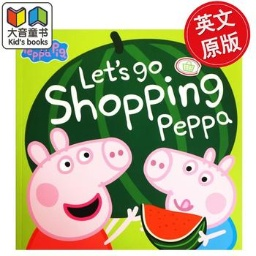Peppa: (22, 126, 142, 249)
